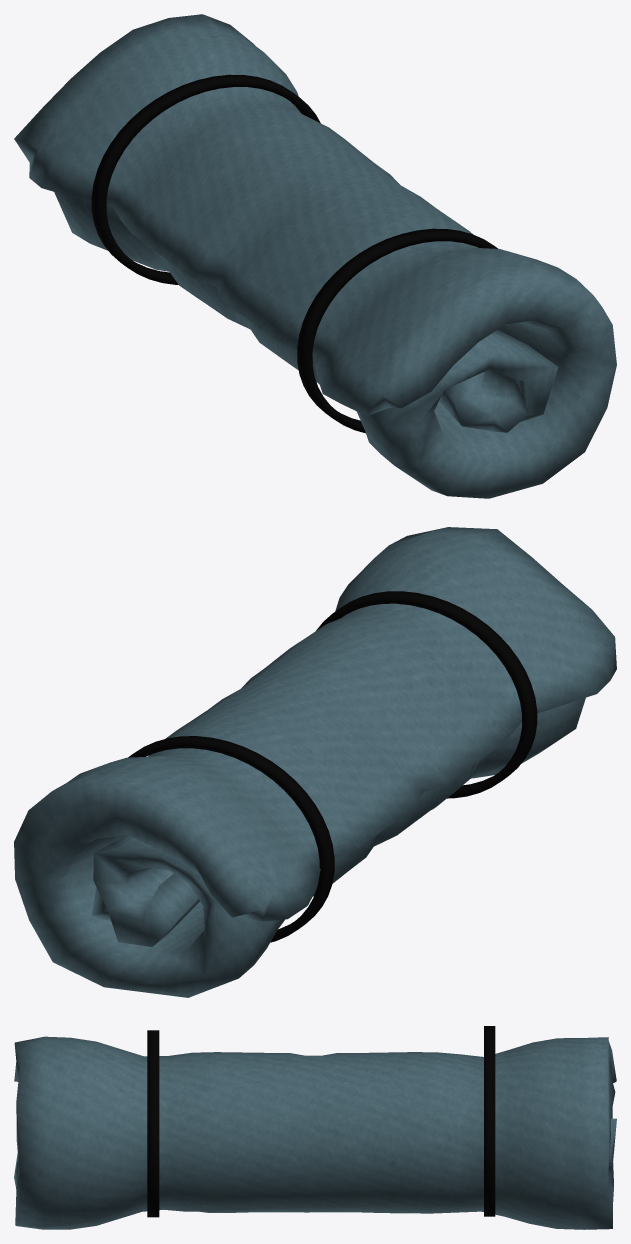
Rendered from WorldItem_SleepingbagRoll.fbx.
The picture shows the model from 3 angles, top to bottom: view 1: azimuth 30°, elevation 25°; view 2: azimuth 150°, elevation 25°; view 3: azimuth 270°, elevation 25°; orthographic projection. The views are drawn at different scales.
Visible parts, largest first — view 1: Left Strap; view 2: Left Strap; view 3: Left Strap.
Part boxes in pixels (x1,y1,x2,y2): Left Strap: (14,14,616,498); Left Strap: (14,527,616,997); Left Strap: (14,1026,616,1229).
Size of the model in its own units: 627 by 484 by 1493.
